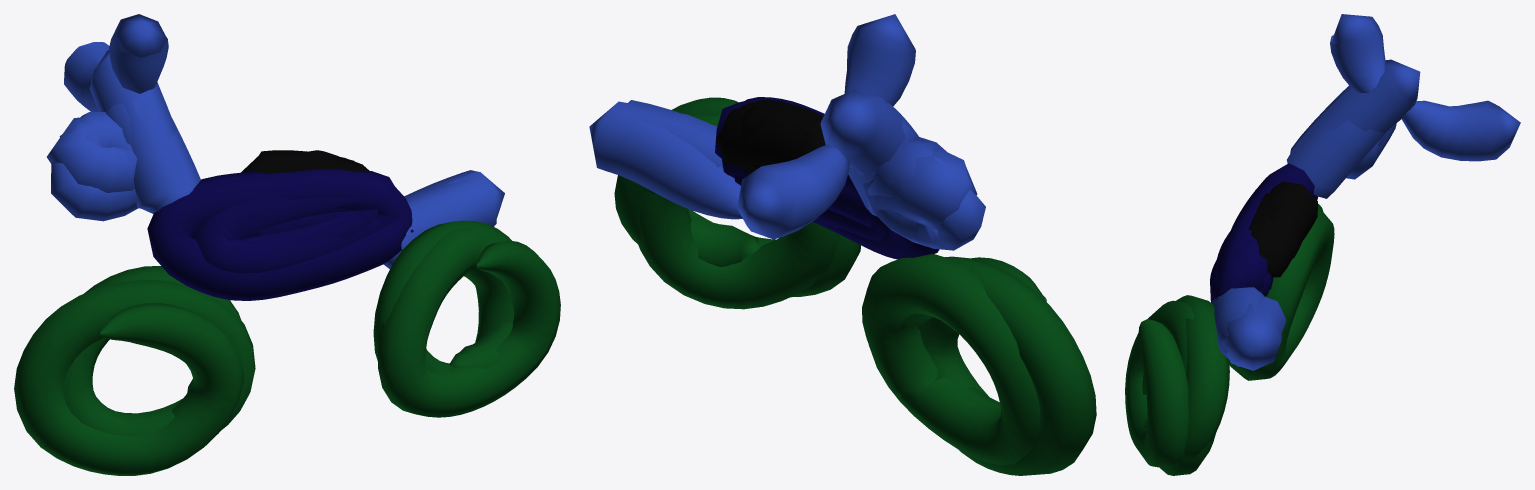
The picture shows the model from 3 angles, left to right: view 1: azimuth 30°, elevation 25°; view 2: azimuth 150°, elevation 25°; view 3: azimuth 270°, elevation 25°; orthographic projection. The views are drawn at different scales.
Parts seen in each view (by area): view 1: Untitled_1_Wire_geo; view 2: Untitled_1_Wire_geo; view 3: Untitled_1_Wire_geo.
Part boxes in pixels (x1,y1,x2,y2): Untitled_1_Wire_geo: (14,14,560,475); Untitled_1_Wire_geo: (589,14,1096,475); Untitled_1_Wire_geo: (1125,14,1520,475).
Size of the model in its own units: 2.47 by 2.06 by 1.94.
